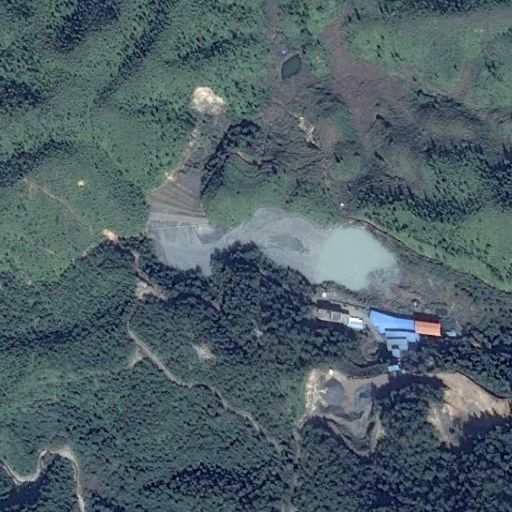tp: (142, 84, 408, 308)
